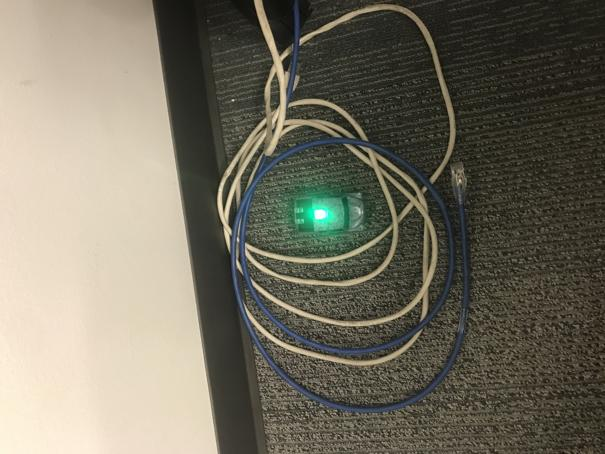MXT: (293, 191, 366, 235)
